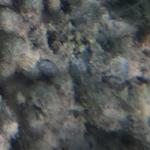dead: (2, 2, 147, 146)
